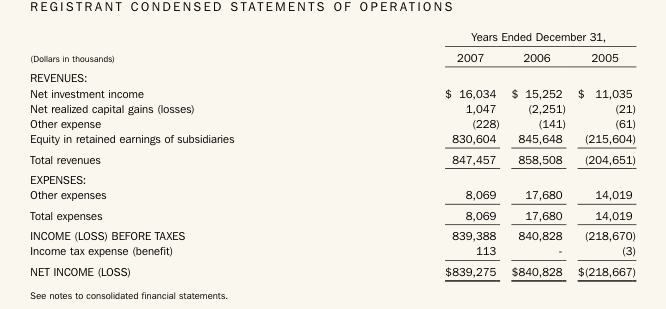table: (29, 29, 635, 277)
table column: (29, 29, 338, 277), (338, 29, 504, 277), (504, 29, 570, 277), (570, 29, 635, 277)
table column header: (29, 29, 635, 66)
table projected row header: (29, 66, 635, 84), (29, 168, 635, 186)
table row: (29, 46, 635, 66), (29, 148, 635, 168), (29, 204, 635, 224), (29, 66, 635, 84), (29, 130, 635, 148), (29, 168, 635, 186), (29, 186, 635, 204), (29, 224, 635, 242), (29, 242, 635, 260), (29, 29, 635, 46), (29, 260, 635, 277), (29, 99, 635, 115), (29, 84, 635, 99), (29, 115, 635, 130)
table spanning cell: (29, 29, 338, 66), (338, 29, 635, 46)
